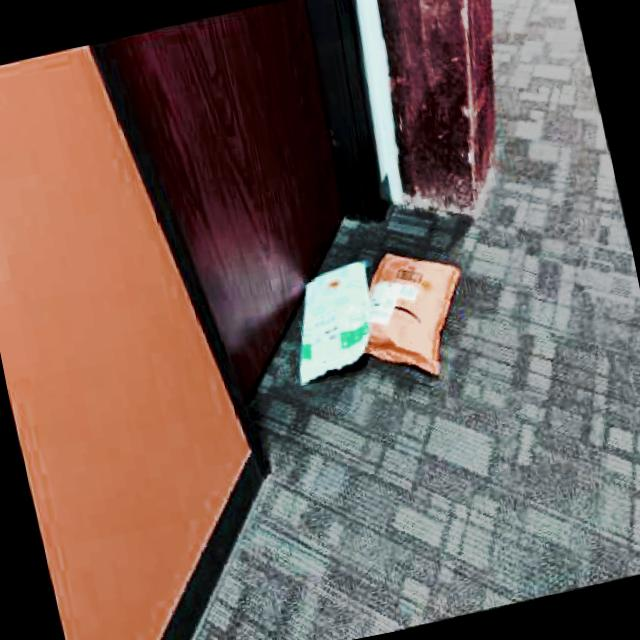Box: (342, 231, 491, 394), (273, 254, 394, 392)
